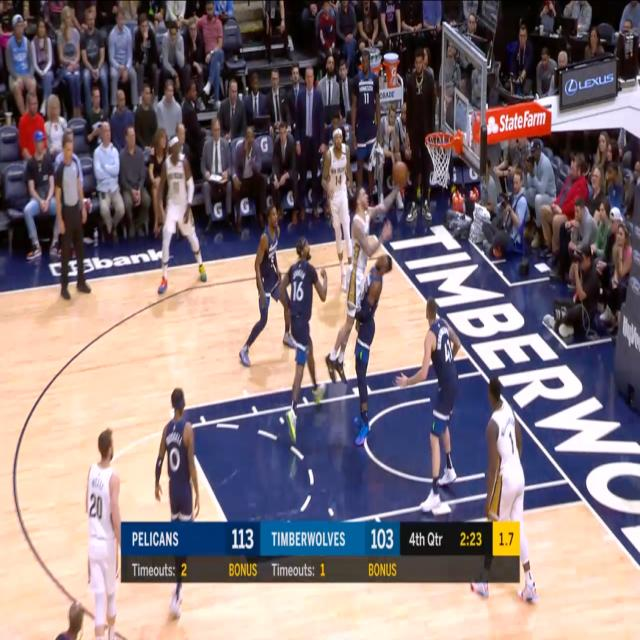Foul: (348, 204, 387, 373)
